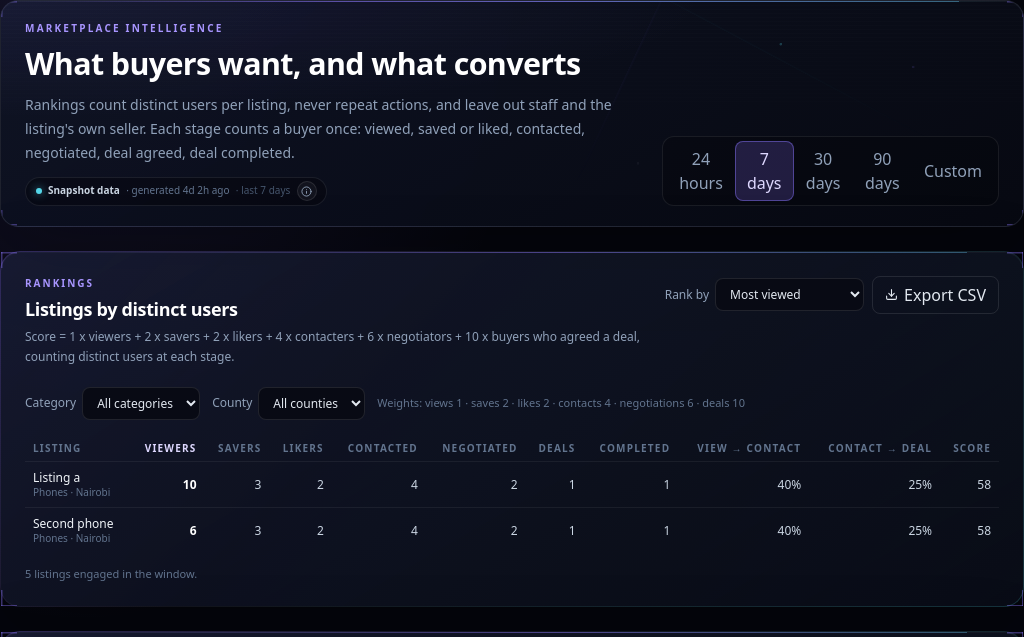
Test: MarketView custom range › requests nothing until the range is valid, then sends the end day included
The image size is (1024, 637).
Click the radio button labelled "Custom" at [953, 171], box [912, 141, 994, 201]
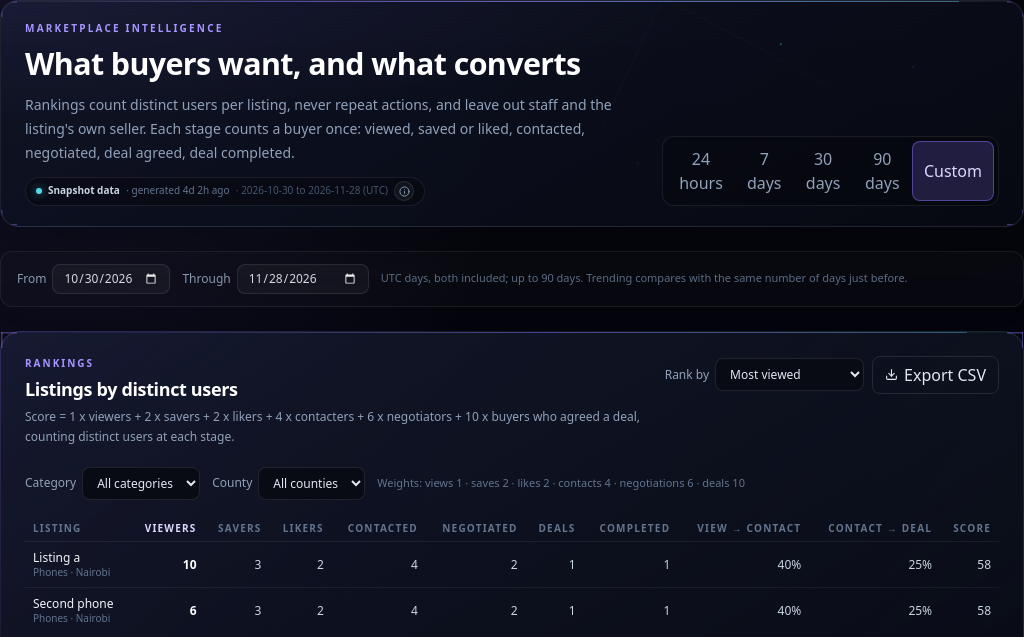
Type "2025-01-01" into the date field named "From date" at [111, 279], box [52, 264, 170, 294]
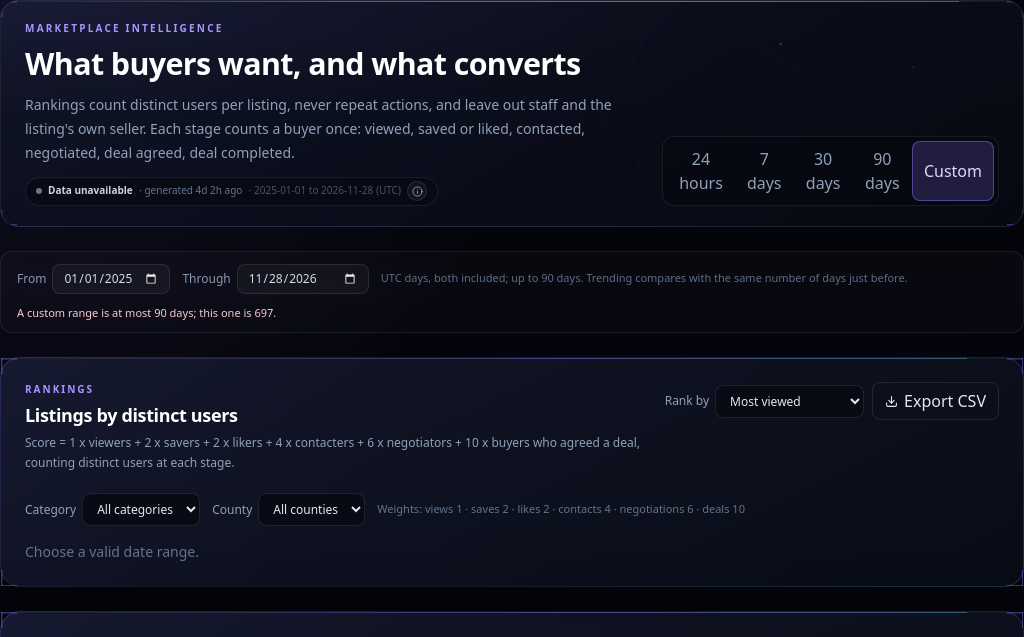
Type "2025-06-30" into the date field named "Through date" at [303, 279], box [237, 264, 369, 294]
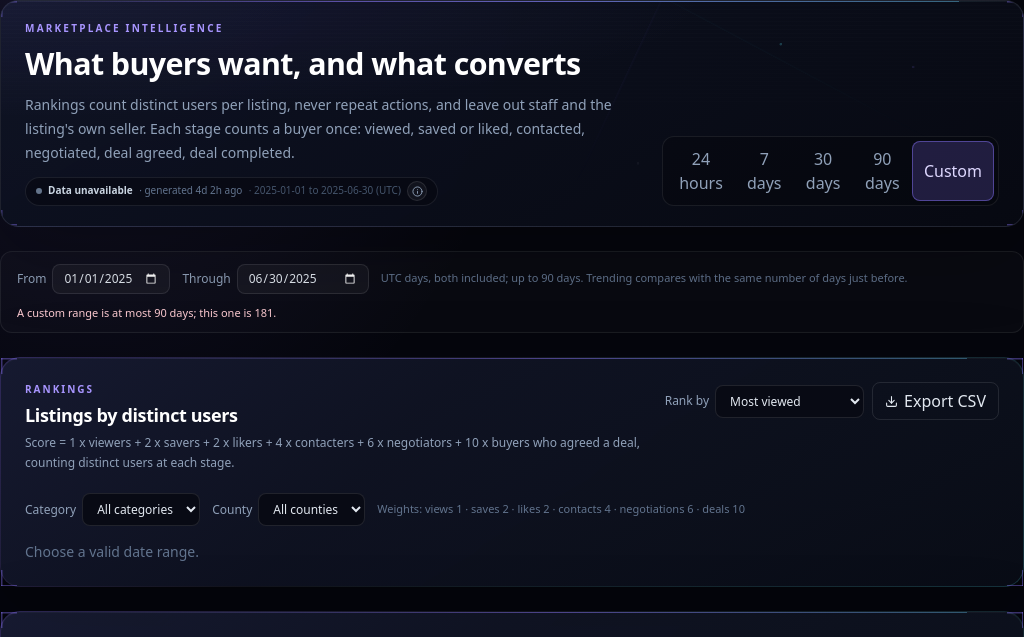
Expected: the message reads "A custom range is at most 90 days; this one is 181.", [17, 305, 276, 320]
Type "2025-01-31" into the date field named "Through date" at [303, 279], box [237, 264, 369, 294]
(page scrolled)
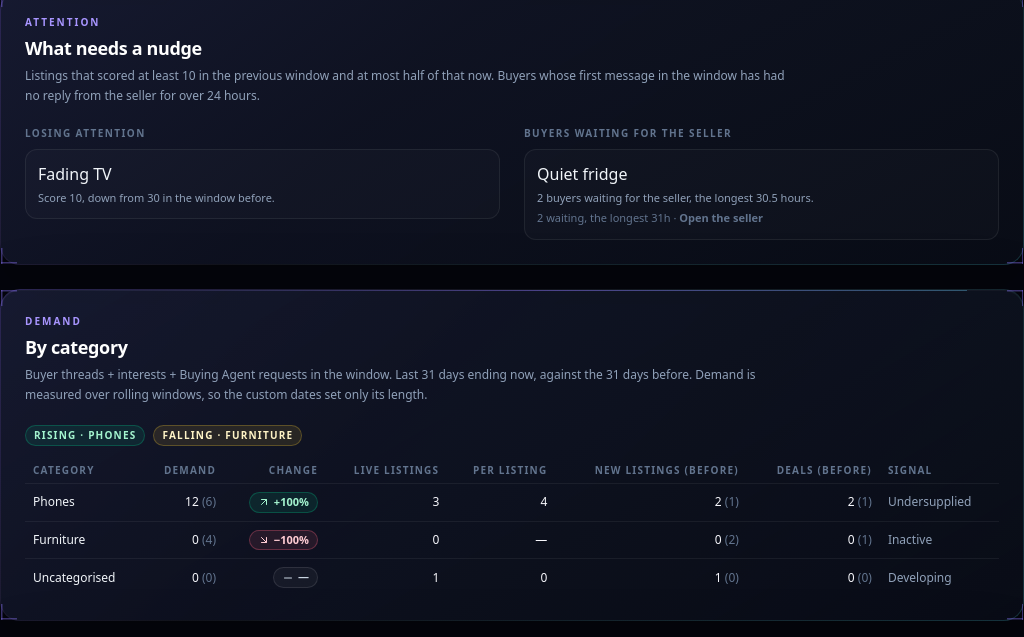
Expected: the text "custom dates set only its length" is shown, [25, 366, 756, 402]
Expected: the message "A custom range is at most 90 days; this one is 181." is gone
